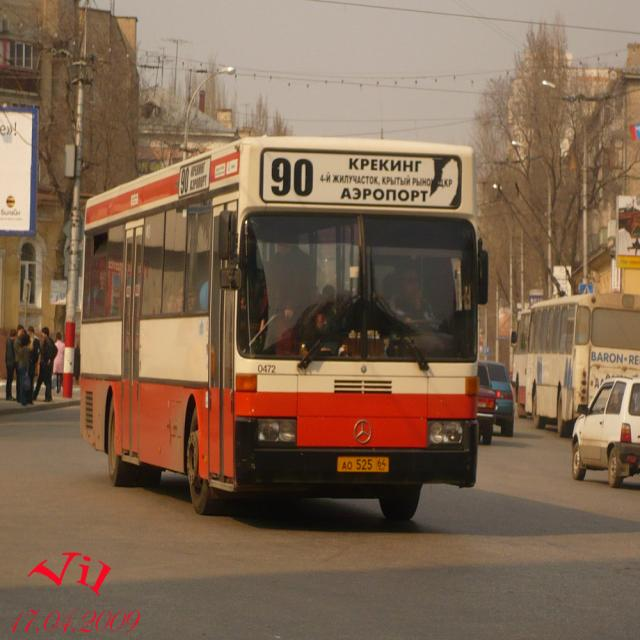number-of-bus: (264, 154, 319, 205)
